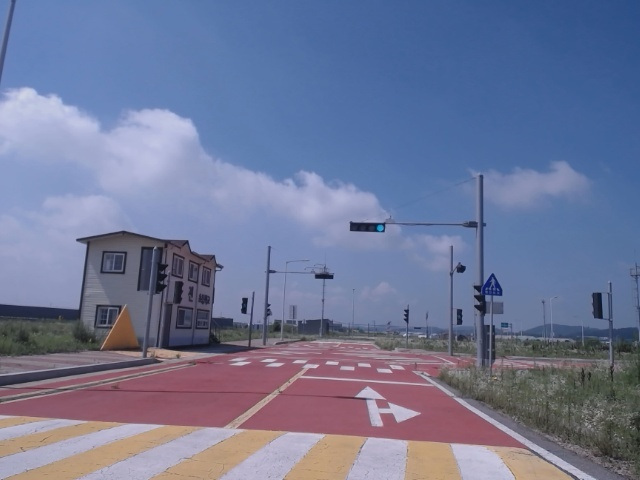straight_green_4: (350, 223, 385, 232)
